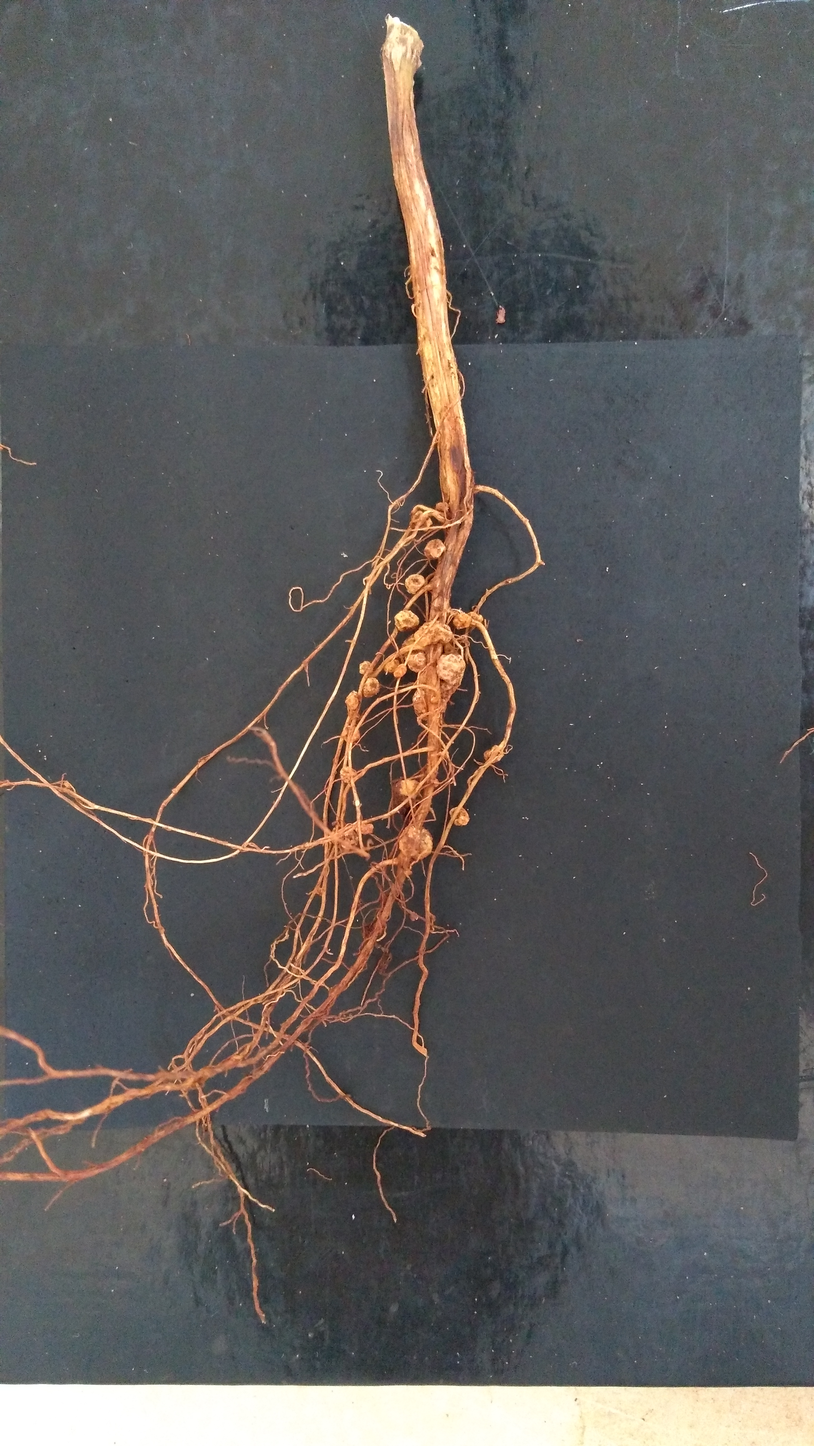nodule: (436, 653, 465, 703), (414, 620, 453, 647), (401, 633, 427, 672), (392, 778, 420, 814), (331, 825, 359, 850), (412, 687, 429, 721), (453, 612, 483, 630), (395, 610, 419, 632), (412, 509, 432, 532), (424, 539, 446, 559), (483, 744, 505, 763), (385, 659, 407, 678), (405, 574, 425, 594), (449, 807, 470, 826), (363, 677, 380, 697), (340, 766, 358, 784), (342, 725, 360, 742), (345, 690, 359, 710), (355, 823, 373, 834), (359, 661, 373, 674), (436, 502, 449, 511), (433, 777, 439, 788)
